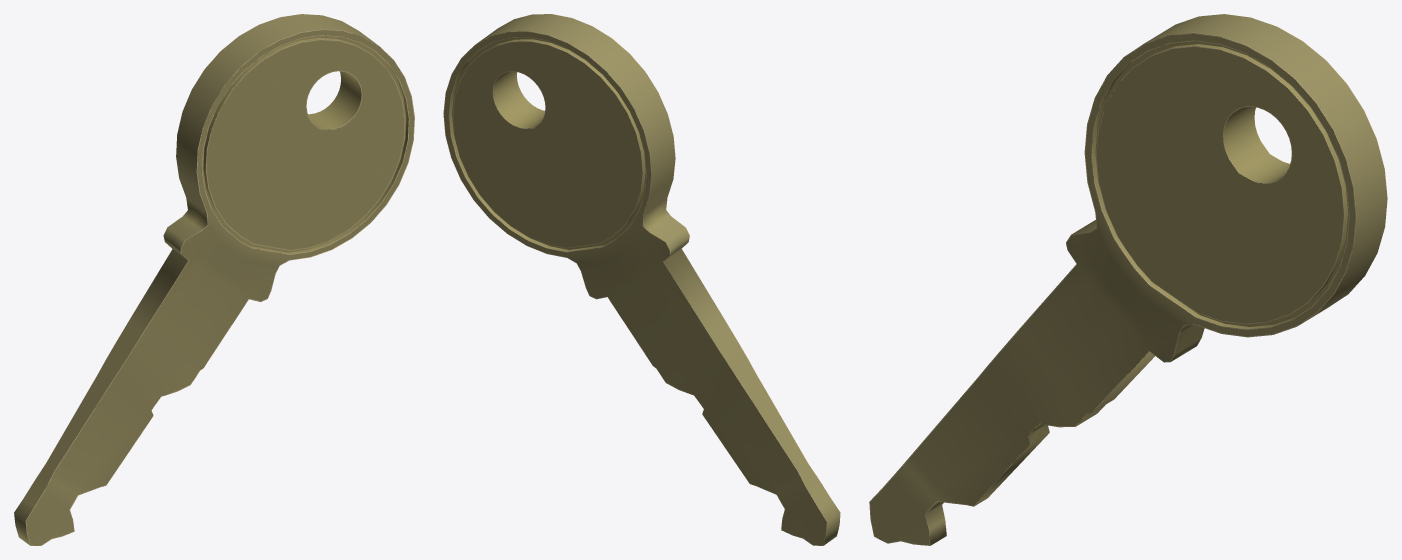
File: Collectible_Key.fbx
The picture shows the model from 3 angles, left to right: view 1: azimuth 30°, elevation 25°; view 2: azimuth 150°, elevation 25°; view 3: azimuth 330°, elevation 25°; orthographic projection. The views are drawn at different scales.
Parts seen in each view (by area): view 1: key; view 2: key; view 3: key.
Part boxes in pixels (left/top/right/bottom): key: left=14, top=14, right=414, bottom=545; key: left=443, top=14, right=840, bottom=545; key: left=869, top=14, right=1387, bottom=545.
Bounding box in the file's own units: 23.83 × 26.99 × 3.12.
1 material, 1 textured.
